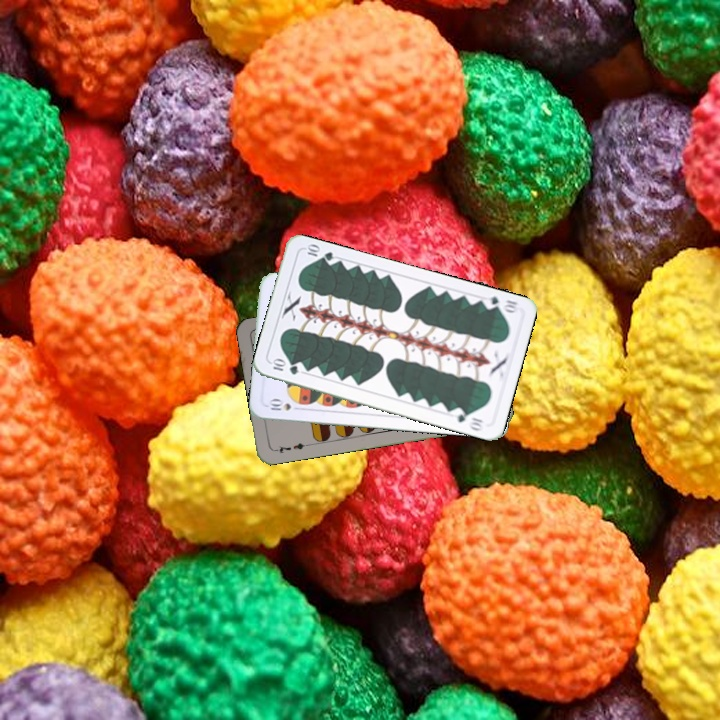E7: (271, 439, 311, 456)
G10: (480, 292, 521, 316), (268, 356, 301, 377)
S10: (264, 396, 294, 413)
